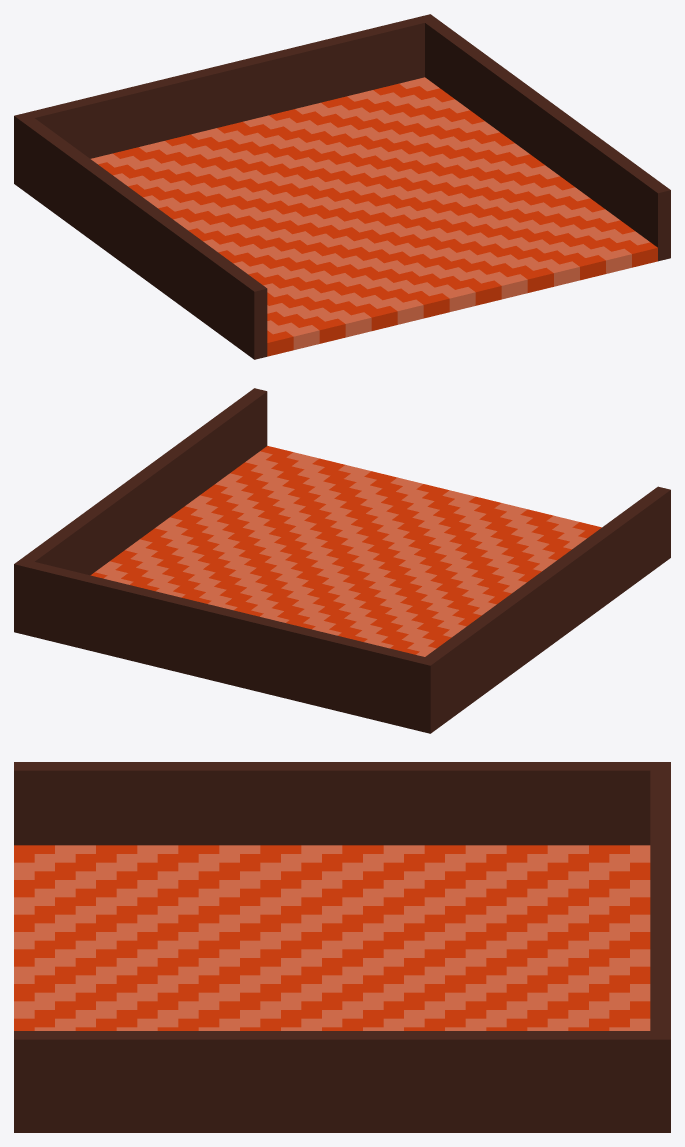
The model's file is Blockers Bone Map 2-0.obj.
3 views of the same model, one above another, from view 1: azimuth 30°, elevation 25°; view 2: azimuth 150°, elevation 25°; view 3: azimuth 270°, elevation 25° (orthographic). The views are drawn at different scales.
Size of the model in its own units: 3.2 by 0.5 by 3.2.
1 material, 1 textured.
